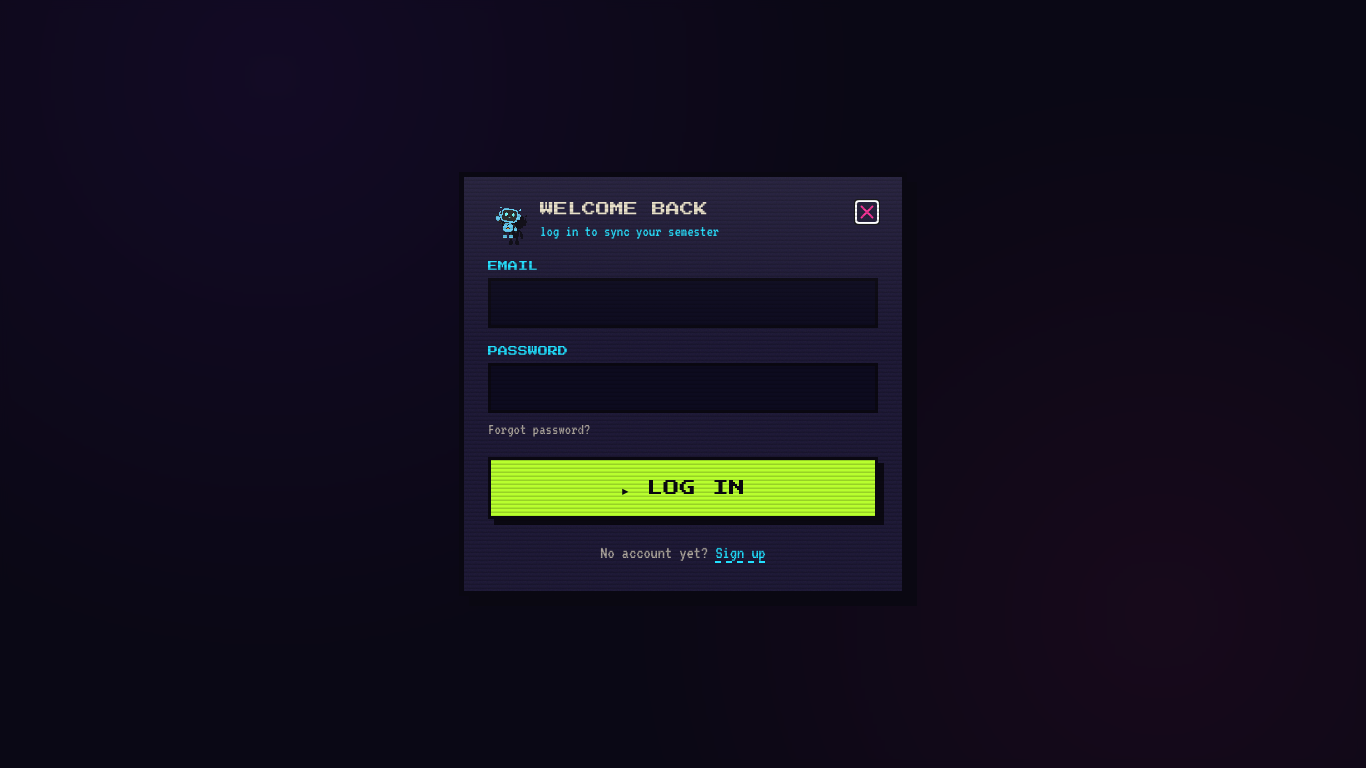
Scenario: AuthModal › switches to forgot-password mode and hides the password field
Click the button "Forgot password?" at [539, 429], box [488, 417, 590, 441]
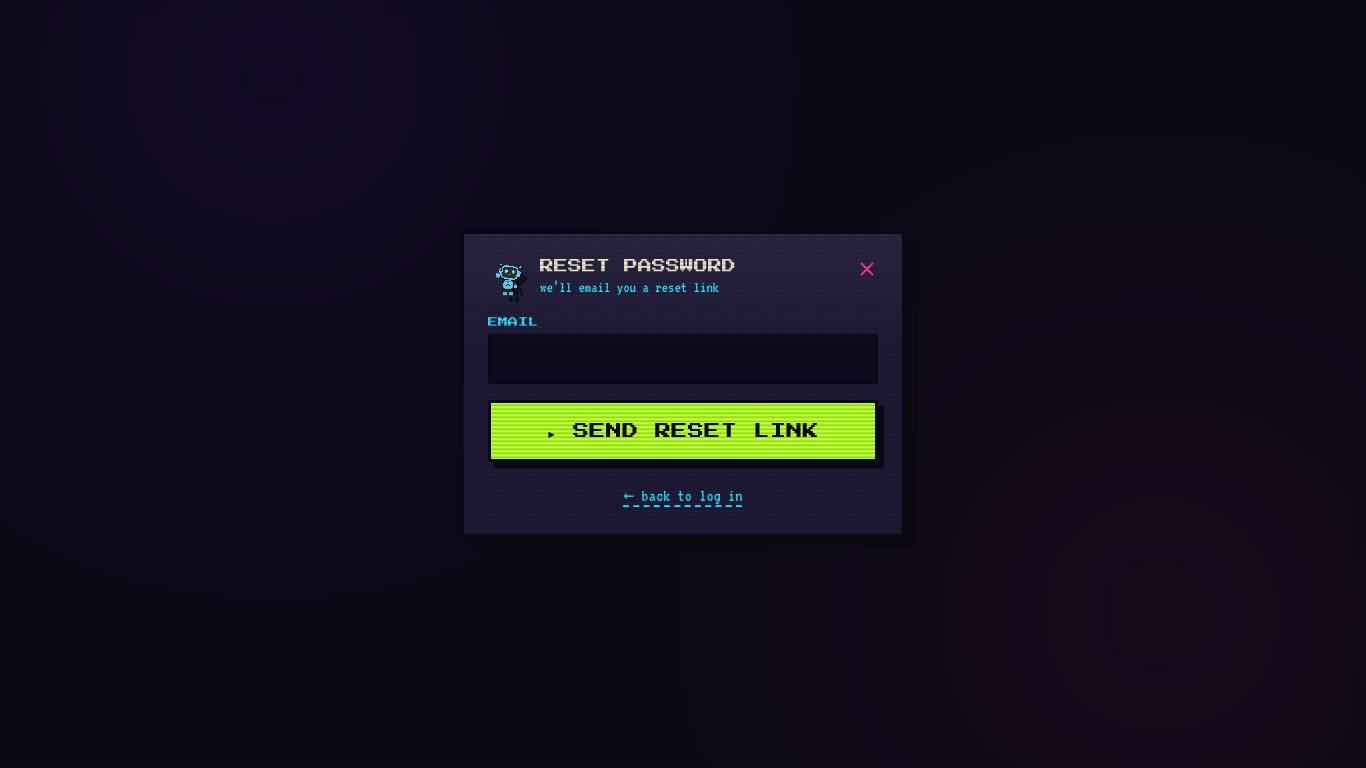
Check: the button "▸ Send reset link" is shown, box [488, 400, 878, 462]
